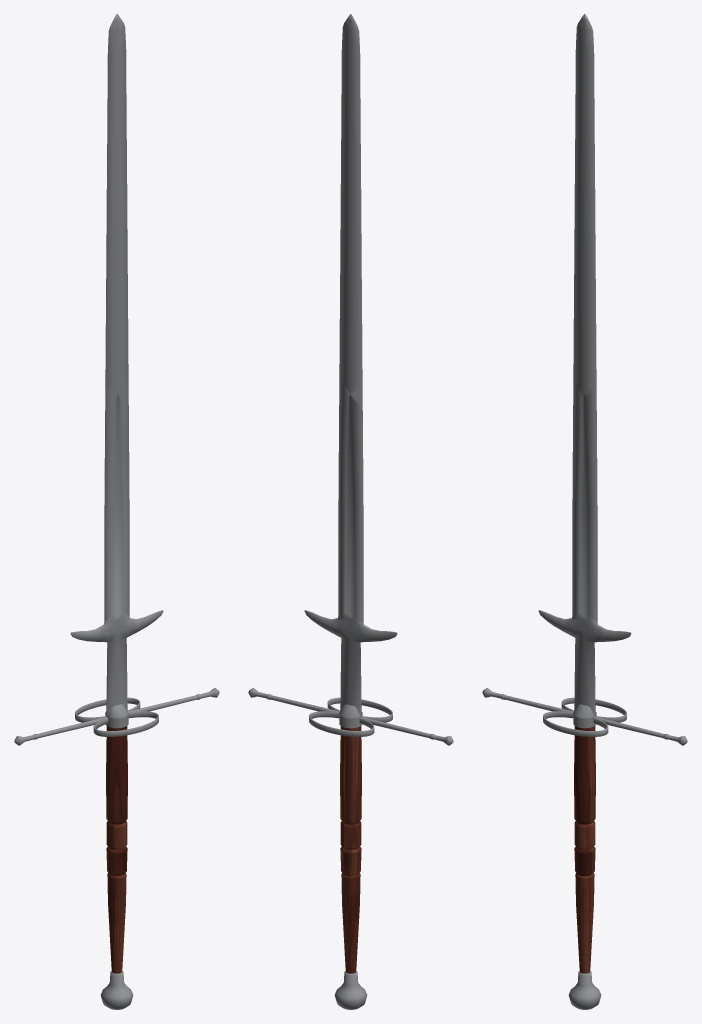
File: zweihander.gltf
3 renders of one model, left to right at view 1: azimuth 30°, elevation 25°; view 2: azimuth 150°, elevation 25°; view 3: azimuth 330°, elevation 25°, orthographic.
Visible parts, largest first — view 1: Cylinder.003; view 2: Cylinder.003; view 3: Cylinder.003.
Part boxes in pixels (x1=…): Cylinder.003: x1=14, y1=14, x2=219, y2=1009; Cylinder.003: x1=248, y1=14, x2=453, y2=1009; Cylinder.003: x1=482, y1=14, x2=687, y2=1009.
Bounding box in the file's own units: 0.3351 × 1.56 × 0.1063.
1 material, 1 textured.
